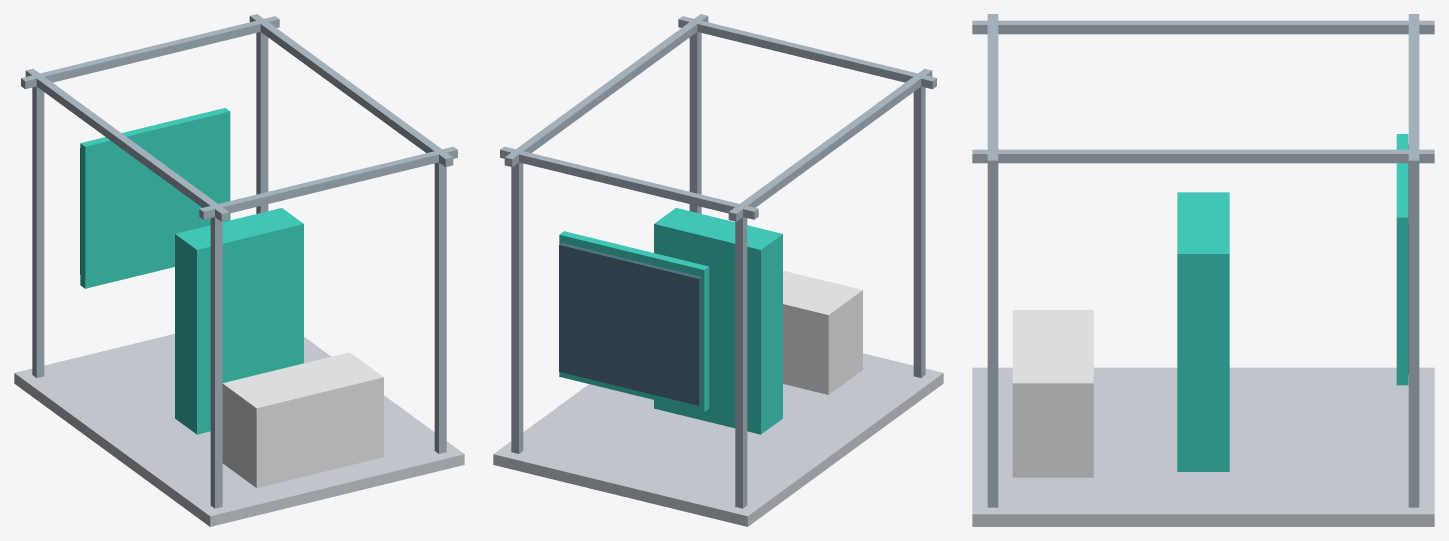
3 views of the same model, side by side, from view 1: azimuth 30°, elevation 25°; view 2: azimuth 150°, elevation 25°; view 3: azimuth 270°, elevation 25° (orthographic). The views are drawn at different scales.
Visible parts, largest first — view 1: Exhibition Booth Concept; view 2: Exhibition Booth Concept; view 3: Exhibition Booth Concept.
Boxes of the visible parts, x1,y1,x2,y2 form: Exhibition Booth Concept: (14,14,464,526); Exhibition Booth Concept: (493,14,943,526); Exhibition Booth Concept: (972,14,1434,526).
Bounding box in the file's own units: 3 × 3.49 × 4.
